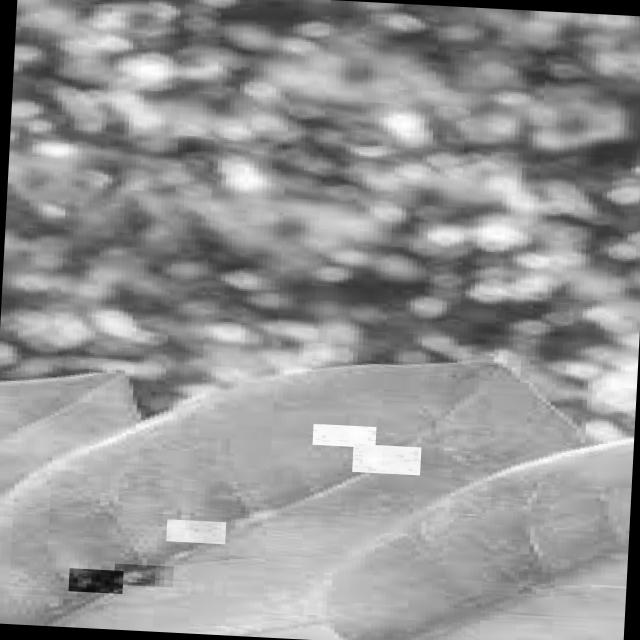scale_insect: (351, 444, 420, 476), (312, 424, 376, 448), (165, 520, 225, 544), (113, 564, 173, 588), (68, 568, 122, 594)
